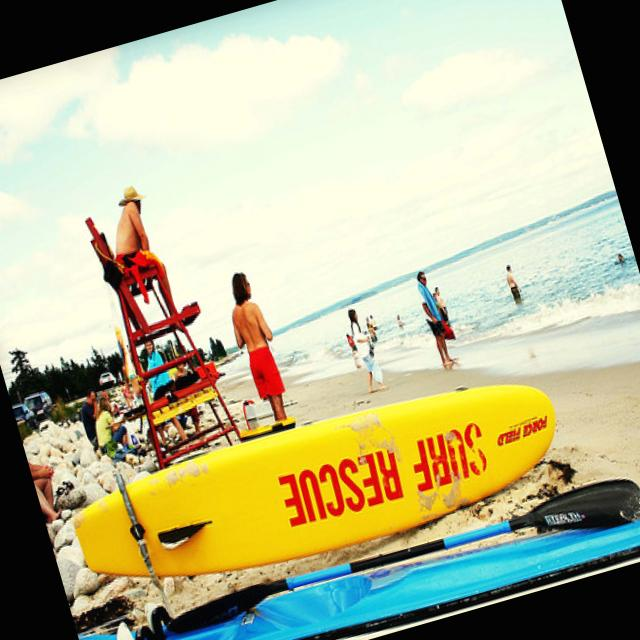Vehicle: (22, 389, 55, 416), (11, 398, 33, 422), (96, 368, 120, 390)
